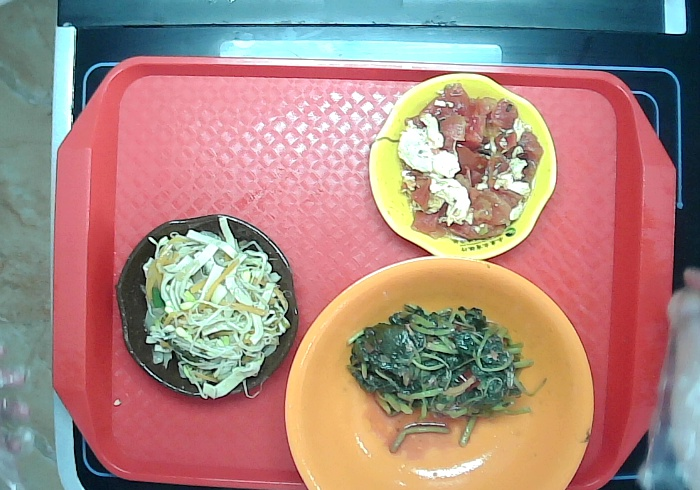YKMZ-Huang_Se_Ao_Bian_Wan: (368, 70, 560, 262)
YKMZ-Ju_Se_Tang_Wan: (282, 254, 598, 490)
YKMZ-Ka_Fei_Ao_Bian_Wan: (114, 212, 301, 400)
